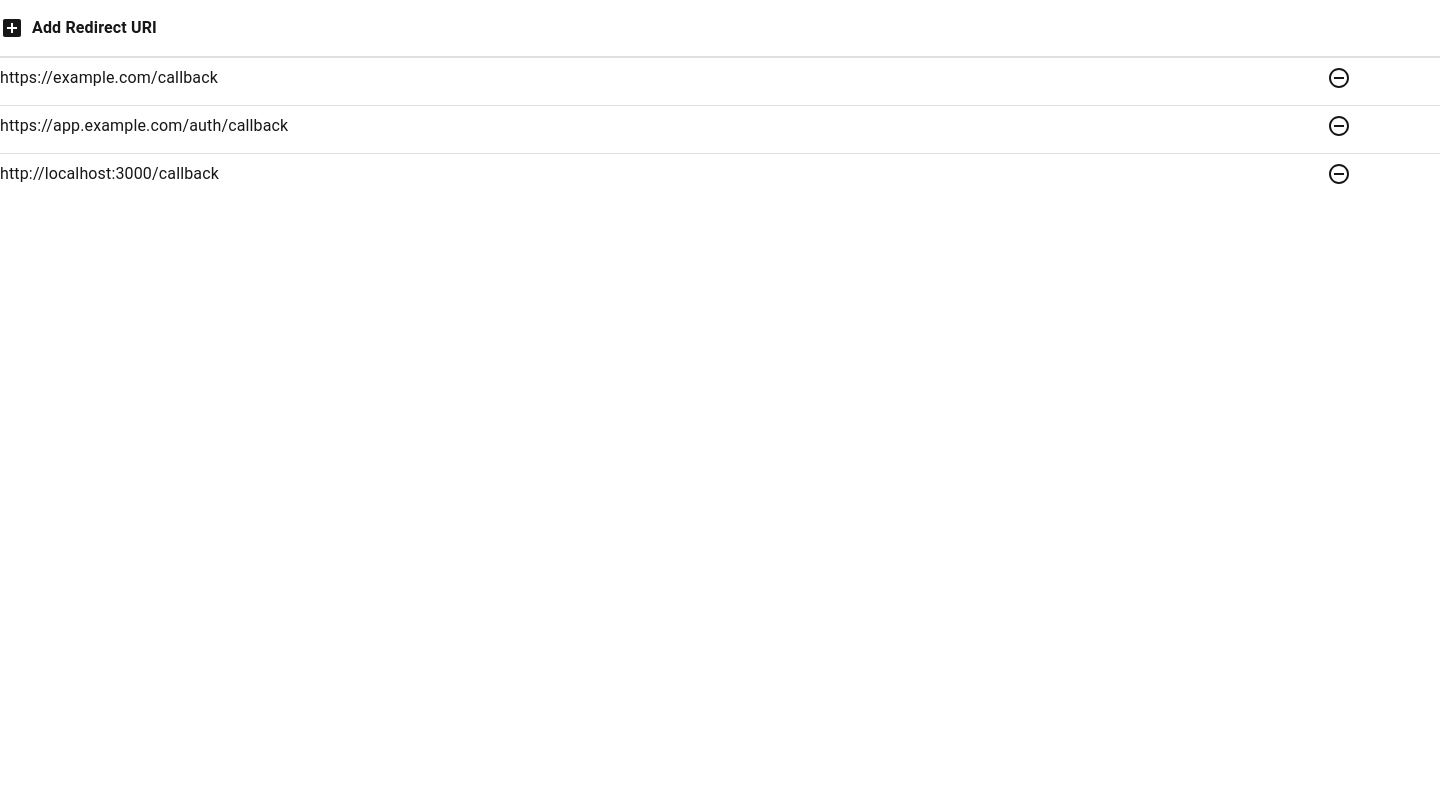
Test: ClientRedirectUriConfiguration - Add URI Dialog › should open add URI dialog when Add button is clicked
The image size is (1440, 810).
expect the text "Add Redirect URI" is shown: met, box x1=32 y1=16 x2=157 y2=40
Step 1. Click the icon with test id "AddBoxIcon" → {"x": 12, "y": 28}, box x1=0 y1=16 x2=24 y2=40
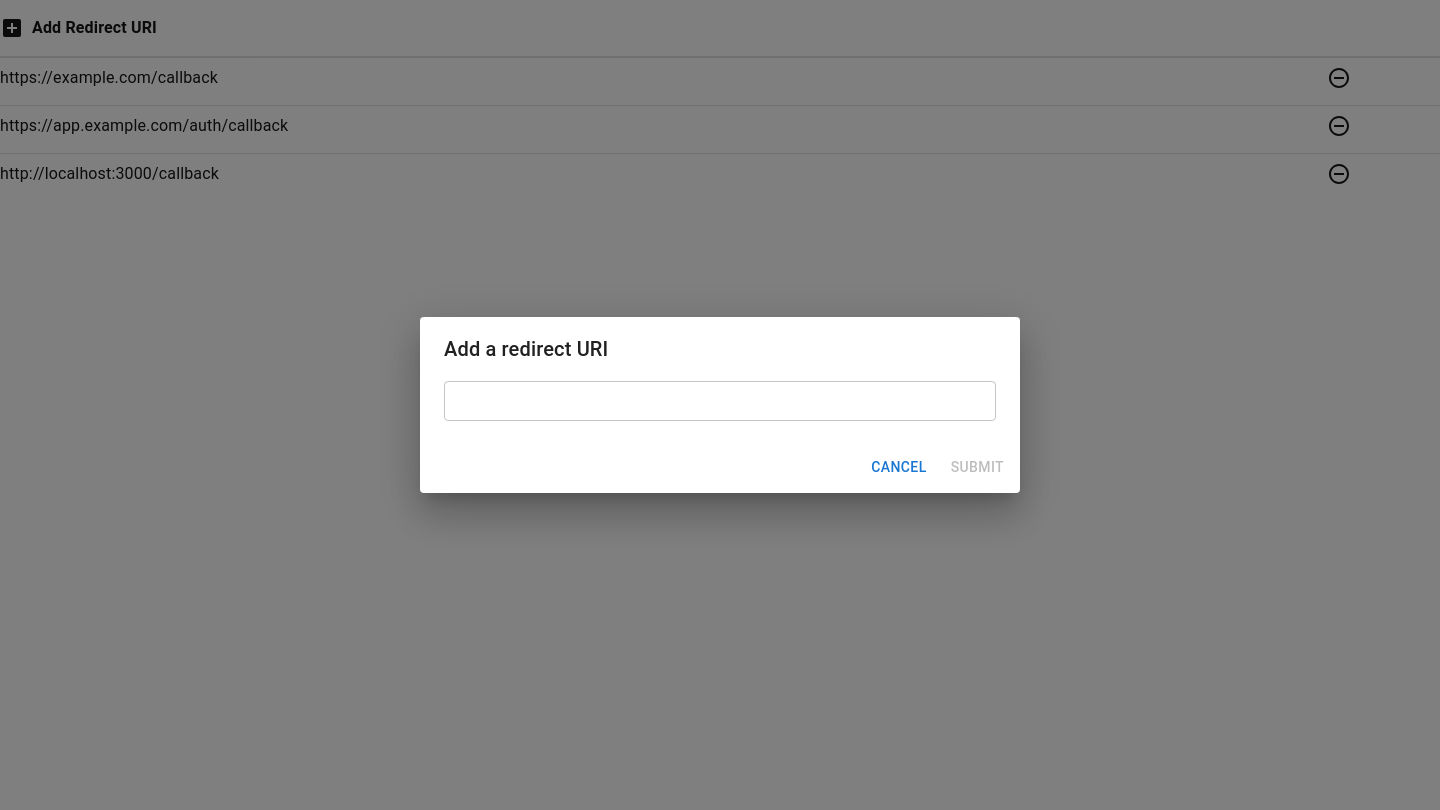
expect the heading "Add a redirect URI" is shown: met, box x1=444 y1=337 x2=608 y2=361
